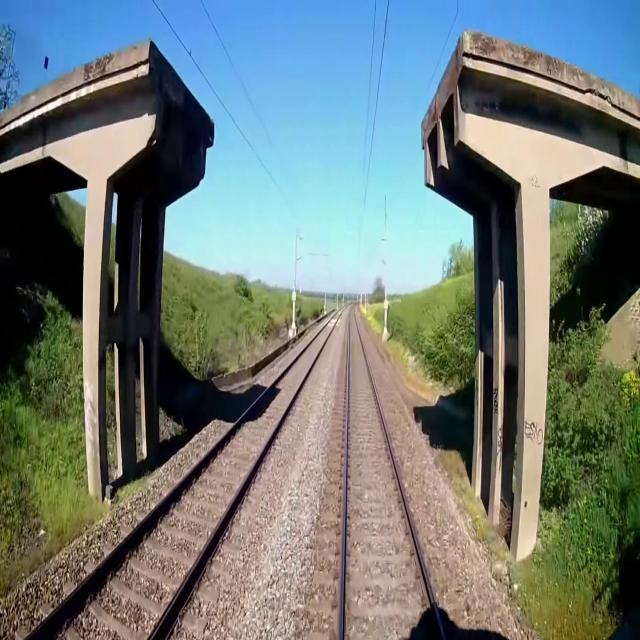rail-track: (30, 311, 340, 639), (344, 306, 442, 639)
